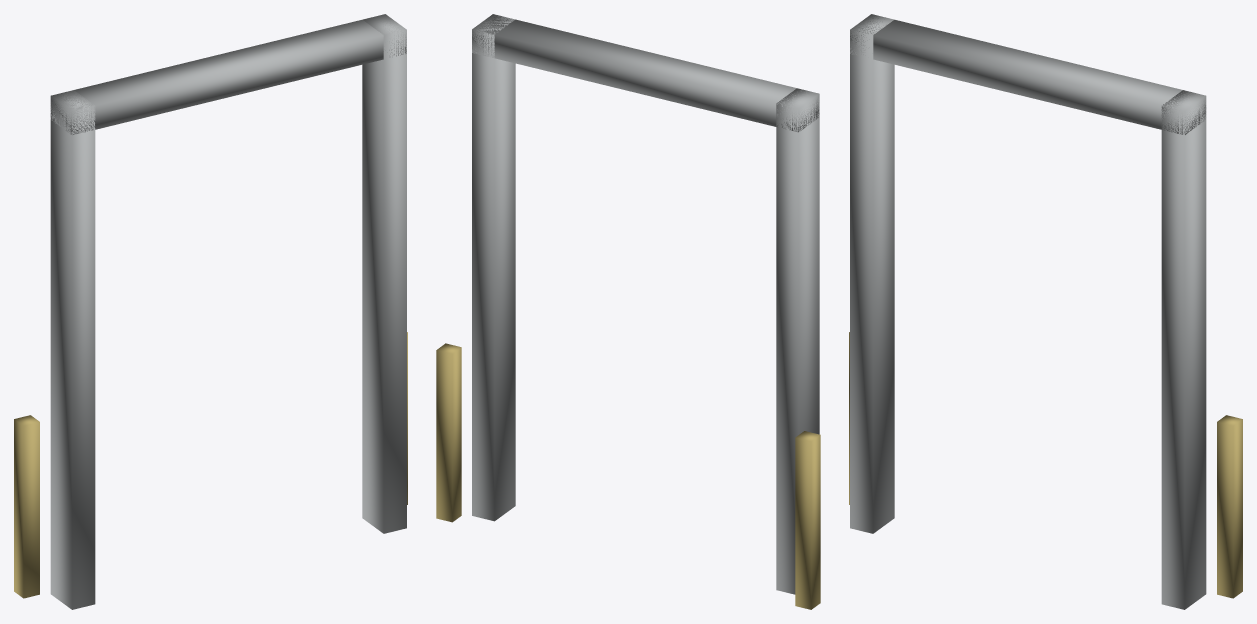
The model's file is elevator_shaft_industrial_w140_h220_d18.glb.
The picture shows the model from 3 angles, left to right: view 1: azimuth 30°, elevation 25°; view 2: azimuth 150°, elevation 25°; view 3: azimuth 330°, elevation 25°; orthographic projection. The views are drawn at different scales.
Parts seen in each view (by area): view 1: world; view 2: world; view 3: world.
Part boxes in pixels (<box>): world: <box>14,14,407,609</box>; world: <box>436,14,820,609</box>; world: <box>849,14,1242,609</box>.
Bounding box in the file's own units: 1.86 × 2.31 × 0.28.
